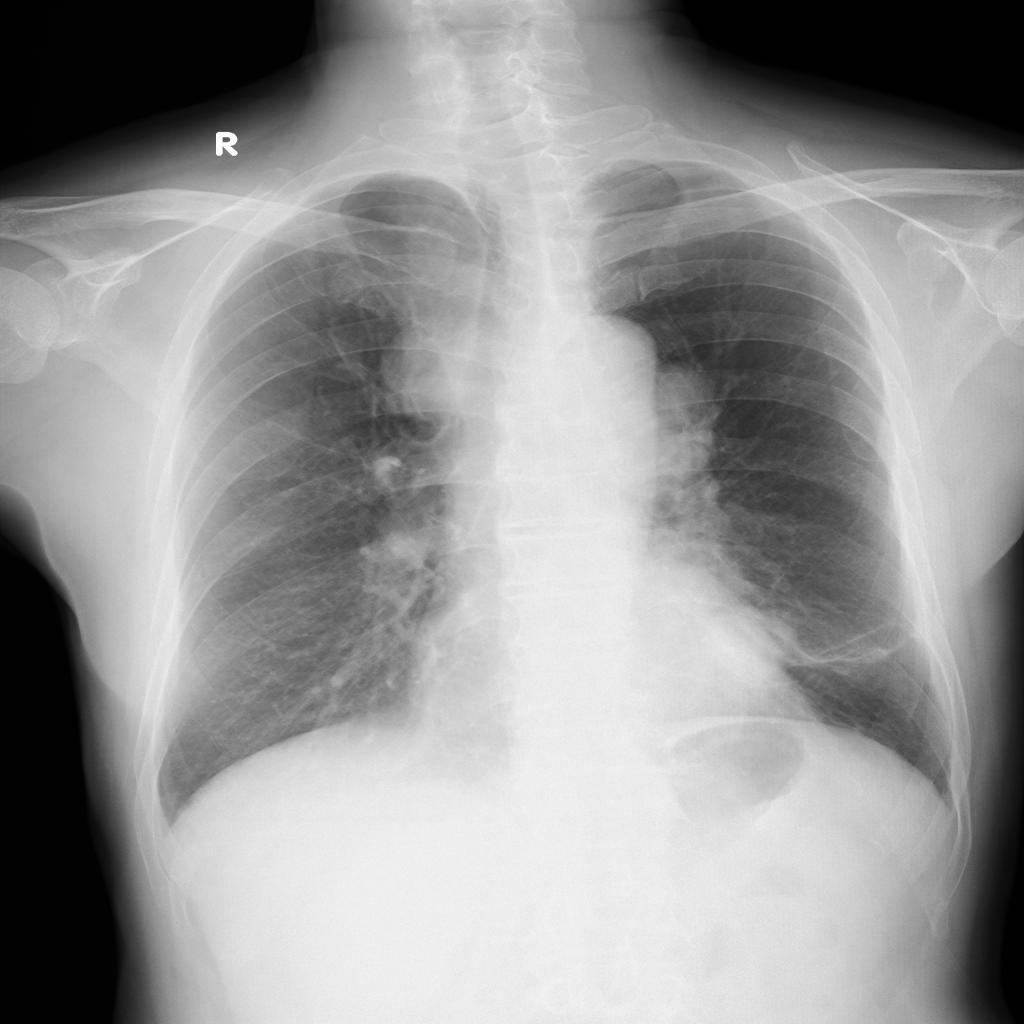Nodule: (381, 327, 465, 415)
